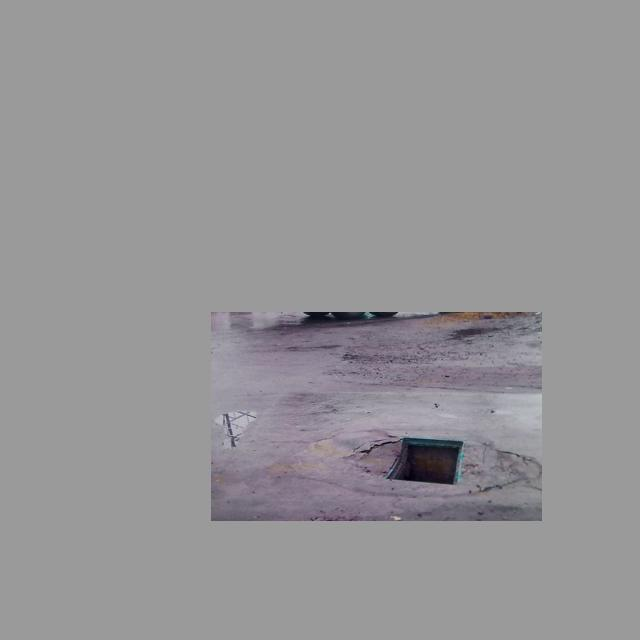lose: (385, 427, 463, 485)
